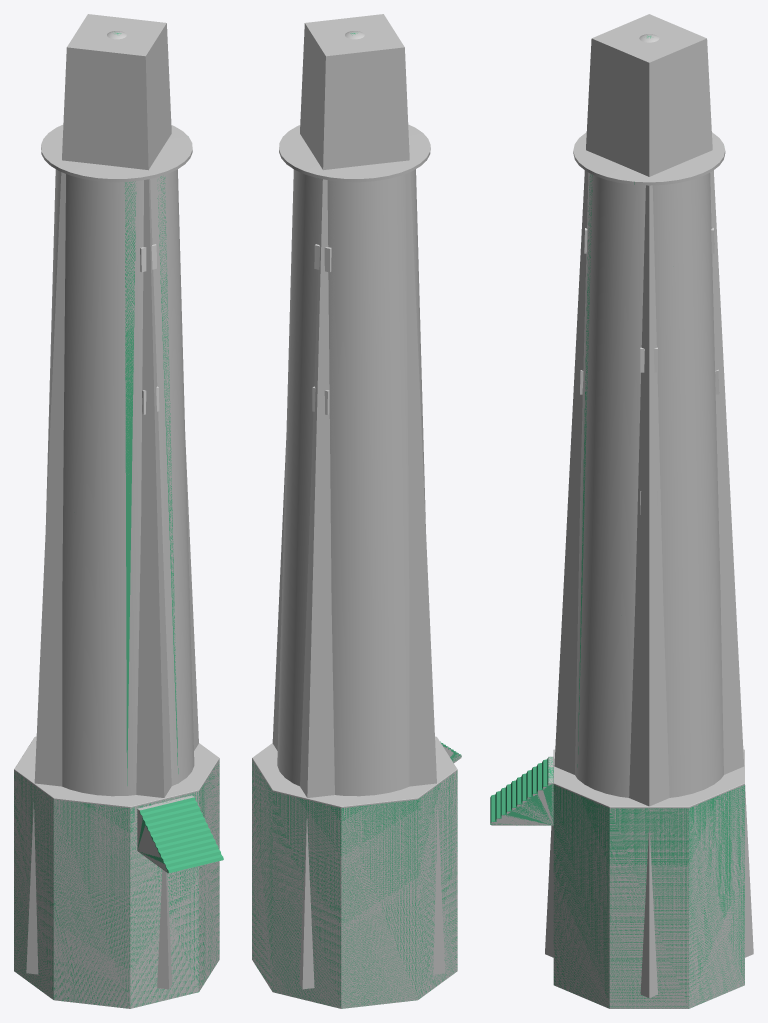
File: jri_lighthouse.dae
The picture shows the model from 3 angles, left to right: view 1: azimuth 30°, elevation 25°; view 2: azimuth 150°, elevation 25°; view 3: azimuth 270°, elevation 25°; orthographic projection.
Visible parts, largest first — view 1: ind_bld_a500, ind_bld_a30, Colmesh-1; view 2: ind_bld_a500, ind_bld_a30, Colmesh-1, ind_bld_a150; view 3: ind_bld_a500, ind_bld_a30, Colmesh-1.
Boxes of the visible parts, <box> form: ind_bld_a500: <box>14,31,222,1008</box>; ind_bld_a30: <box>26,14,198,989</box>; Colmesh-1: <box>14,32,223,1008</box>; ind_bld_a500: <box>252,31,461,1008</box>; ind_bld_a30: <box>272,14,445,989</box>; Colmesh-1: <box>252,33,461,1008</box>; ind_bld_a150: <box>312,180,334,558</box>; ind_bld_a500: <box>491,34,744,1008</box>; ind_bld_a30: <box>545,14,753,998</box>; Colmesh-1: <box>490,35,744,1008</box>.
Size of the model in its own units: 8.07 by 10.18 by 39.69.
